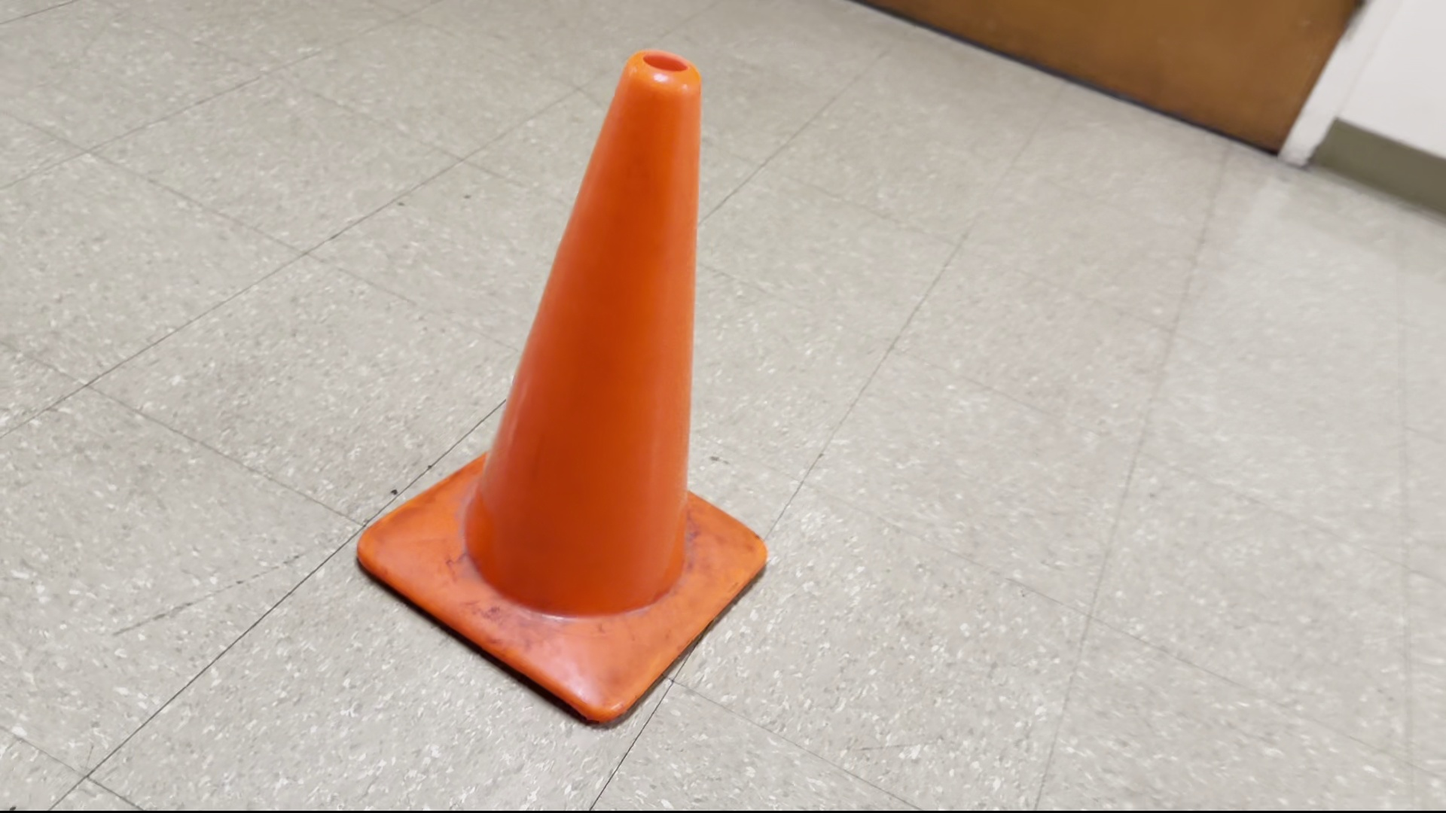traffic_cone: (355, 48, 769, 727)
